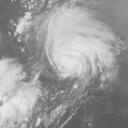cyclone: (37, 7, 108, 78)
